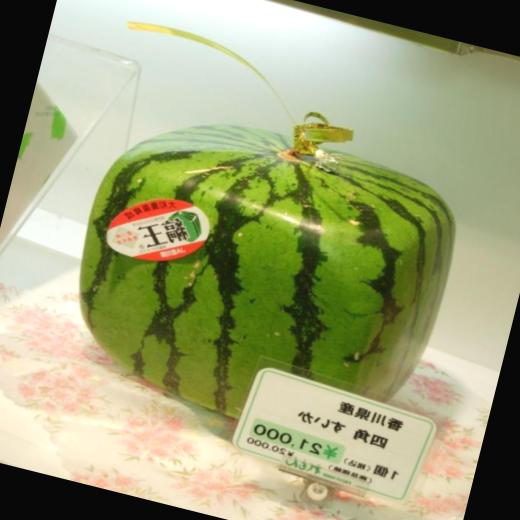Cherry: (50, 94, 472, 462)
